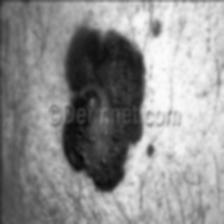Potentially Malignant Skin Tumors: (64, 37, 146, 107), (60, 132, 138, 194)
